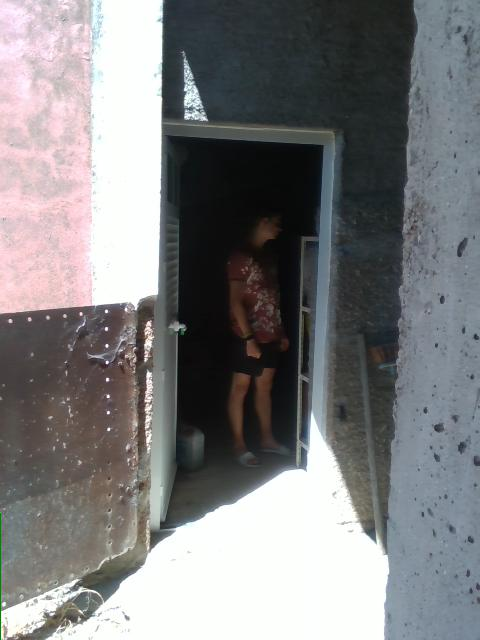door: (155, 136, 187, 518)
